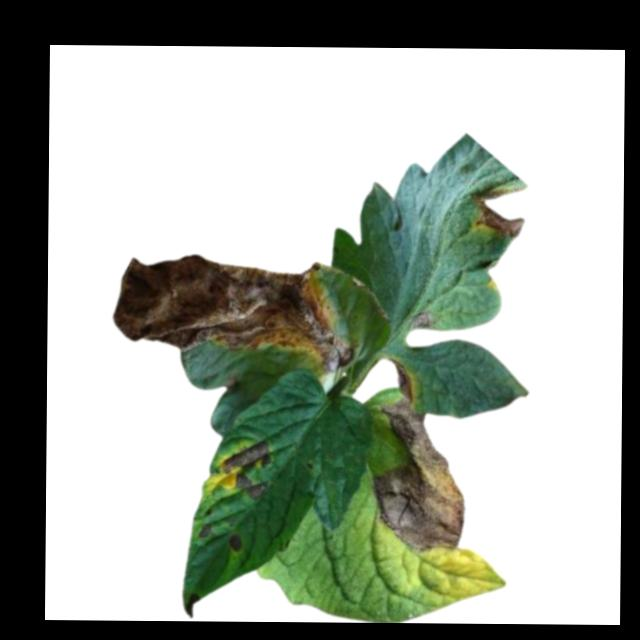Early_blight: (113, 252, 355, 373), (380, 400, 466, 553), (465, 183, 530, 236), (223, 438, 273, 499), (389, 357, 412, 399), (408, 308, 434, 330), (183, 588, 200, 619), (221, 375, 239, 397), (197, 521, 212, 544), (230, 532, 244, 555)
